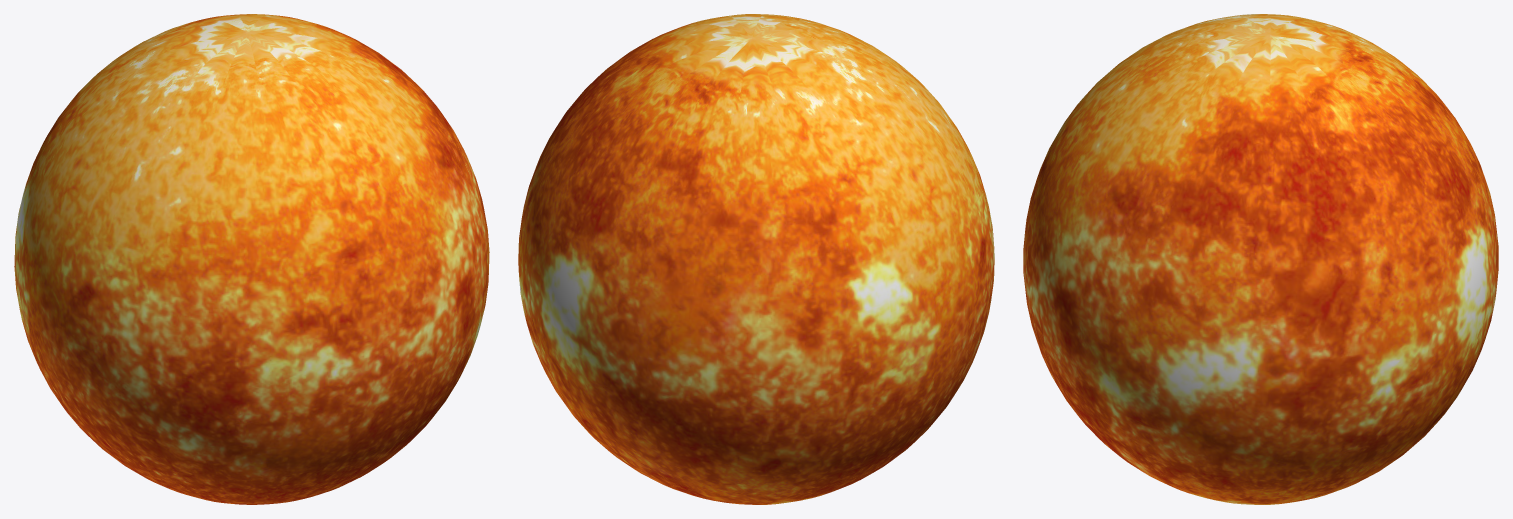
File: sun-v2.glb
The picture shows the model from 3 angles, left to right: view 1: azimuth 30°, elevation 25°; view 2: azimuth 150°, elevation 25°; view 3: azimuth 270°, elevation 25°; orthographic projection.
Visible parts, largest first — view 1: Sphere; view 2: Sphere; view 3: Sphere.
Boxes of the visible parts, box(x1,y1,x2,y2) form: Sphere: box(14, 14, 489, 504); Sphere: box(518, 14, 994, 504); Sphere: box(1023, 14, 1498, 504).
Size of the model in its own units: 1.88 by 1.95 by 1.87.
Materials: 1 (1 with a texture image).
